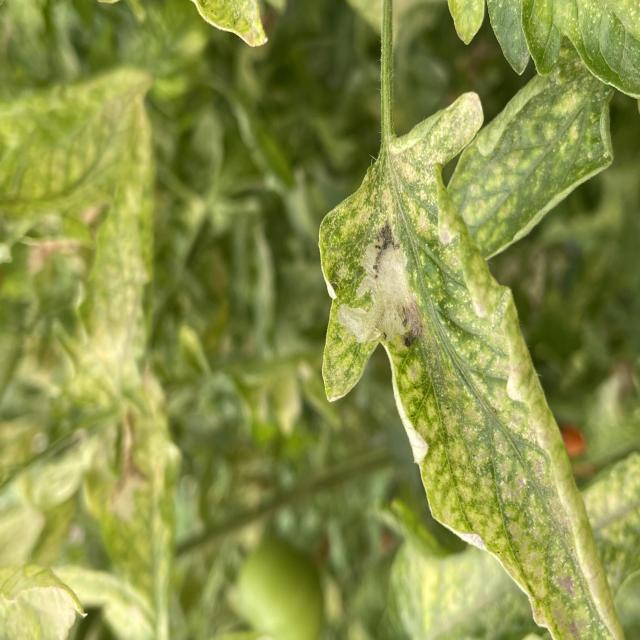Tuta absoluta: (324, 218, 423, 348)
